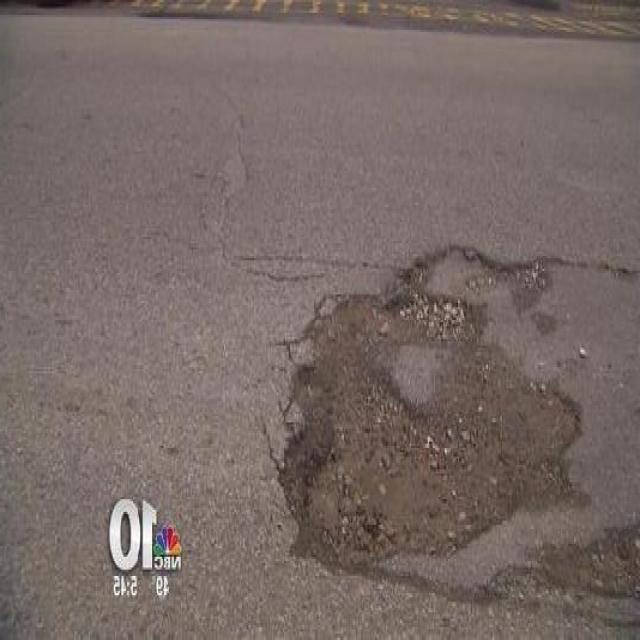pothole: (282, 245, 591, 566)
